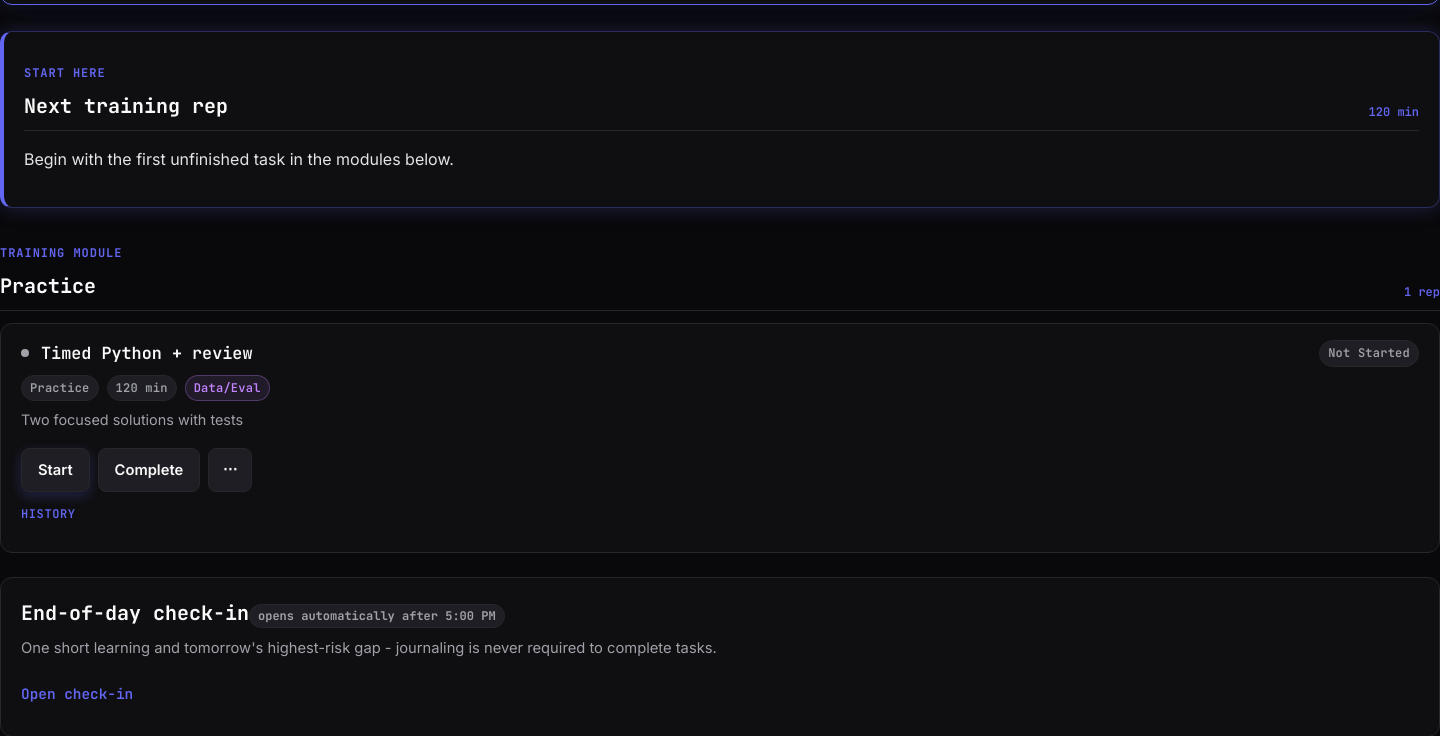
it: TodayView › surfaces a stale-revision conflict with refresh/retry controls
This screenshot has width=1440, height=736.
(page scrolled)
Check: the heading "Timed Python + review" is shown, box [41,342,252,364]
Click the button "Complete" at (149,470), box [98,448,200,492]
(page scrolled)
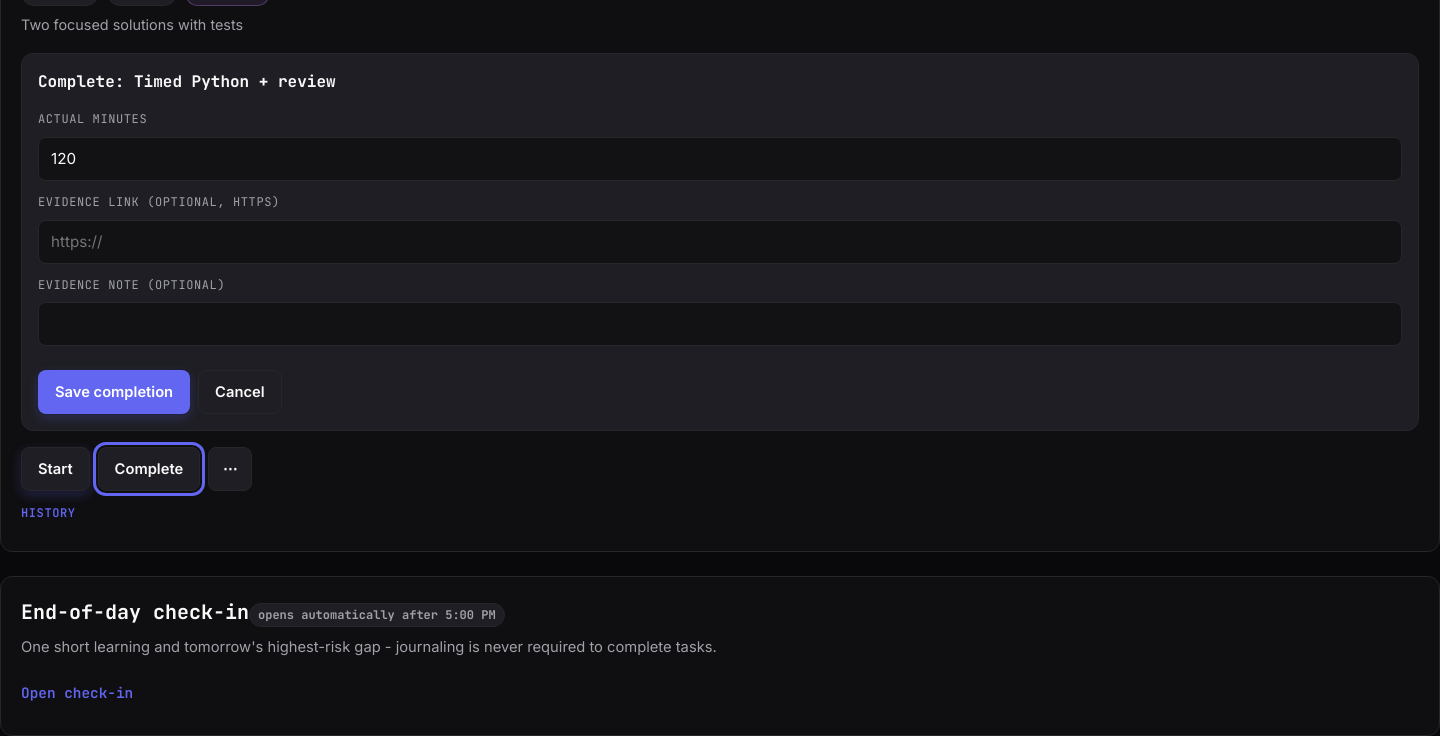
Click the button "Save completion" at (114,392), box [38,370,190,414]
(page scrolled)
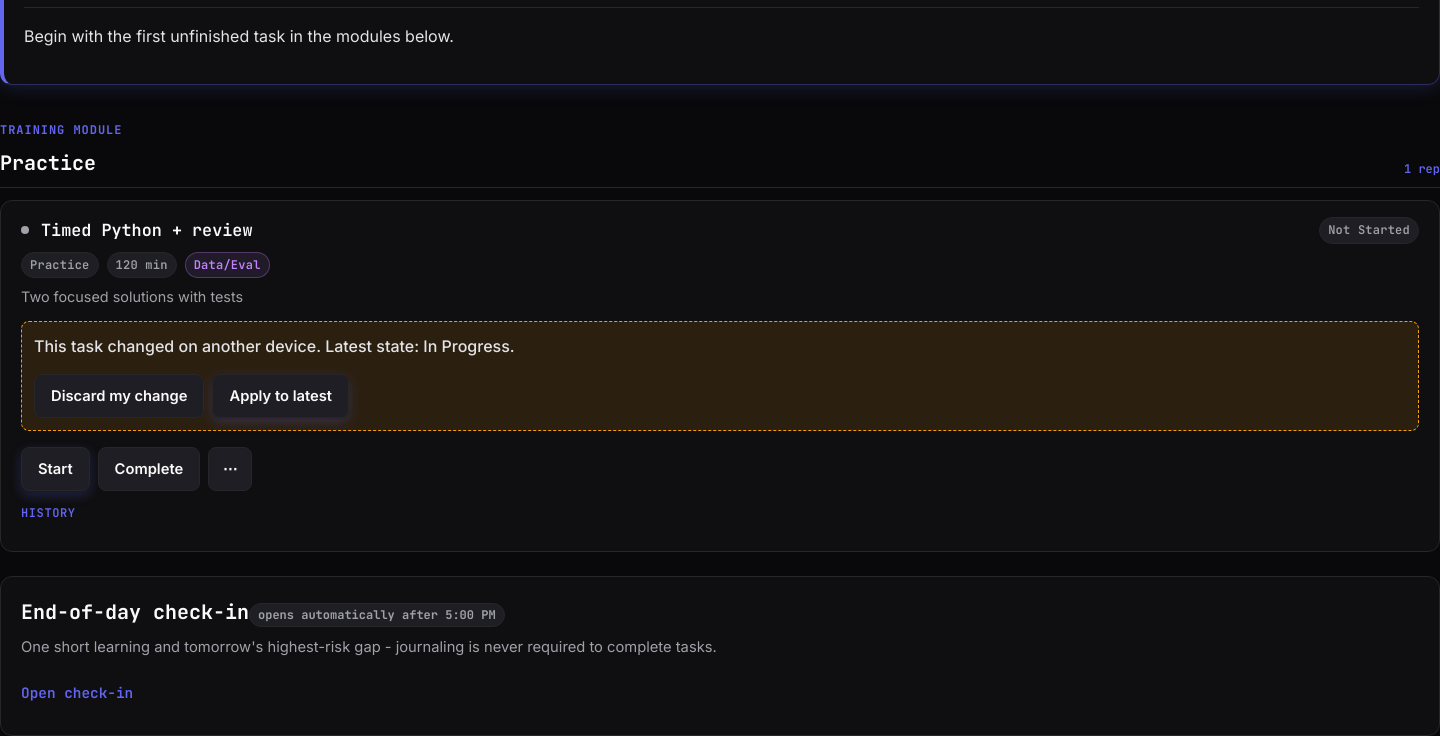
Check: the text "changed on another device" is shown, box [34,336,419,356]
Check: the button "Discard my change" is shown, box [34,374,204,418]
Check: the button "Apply to latest" is shown, box [212,374,349,418]
